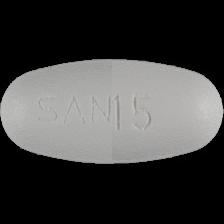51138-213: (0, 0, 224, 224)
